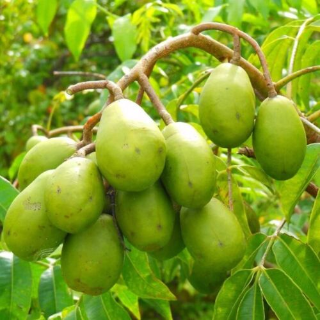coc: (97, 99, 165, 192), (198, 61, 254, 146), (46, 158, 103, 234), (256, 97, 306, 181)
